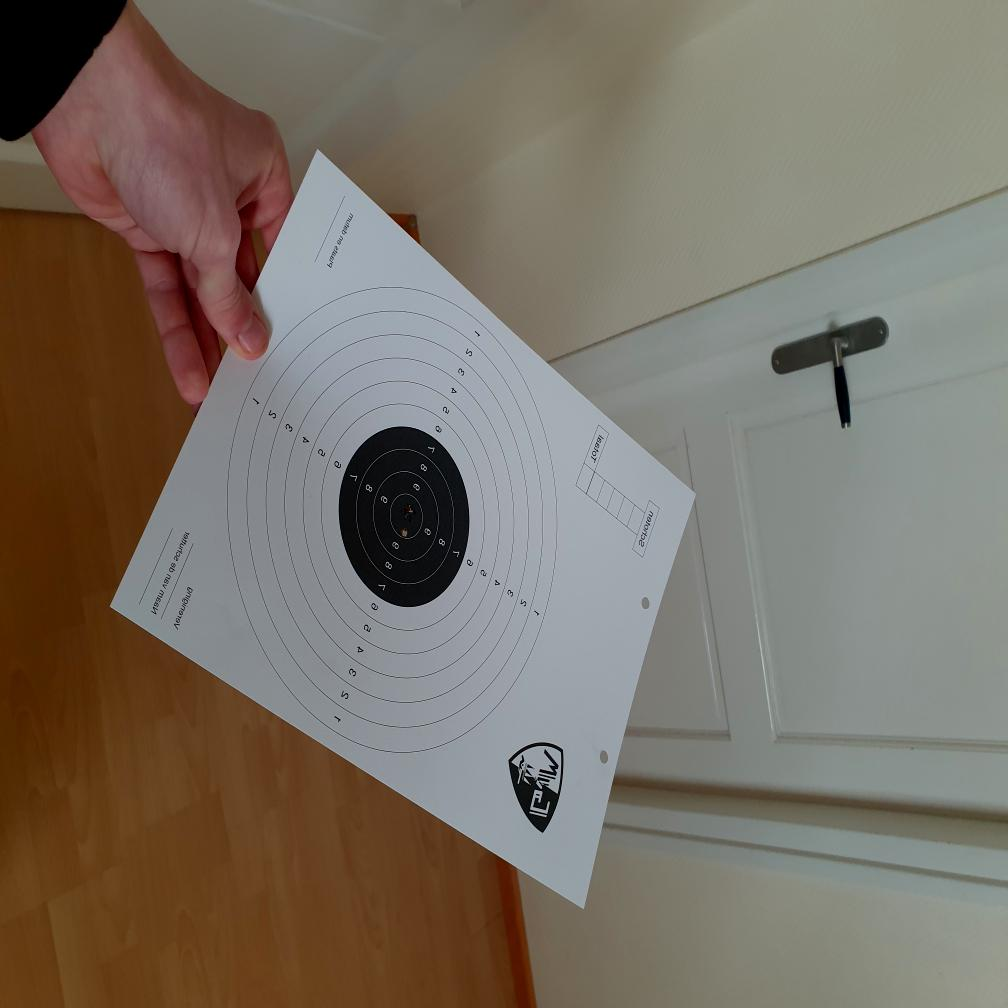10: (401, 503, 417, 522), (399, 526, 408, 539)
Target: (224, 286, 560, 753)
black_contour: (338, 426, 470, 608)
